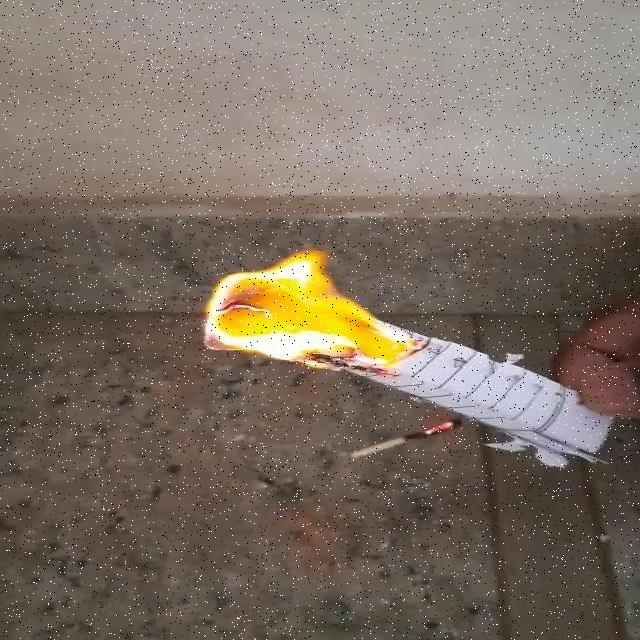fire: (198, 249, 418, 380)
